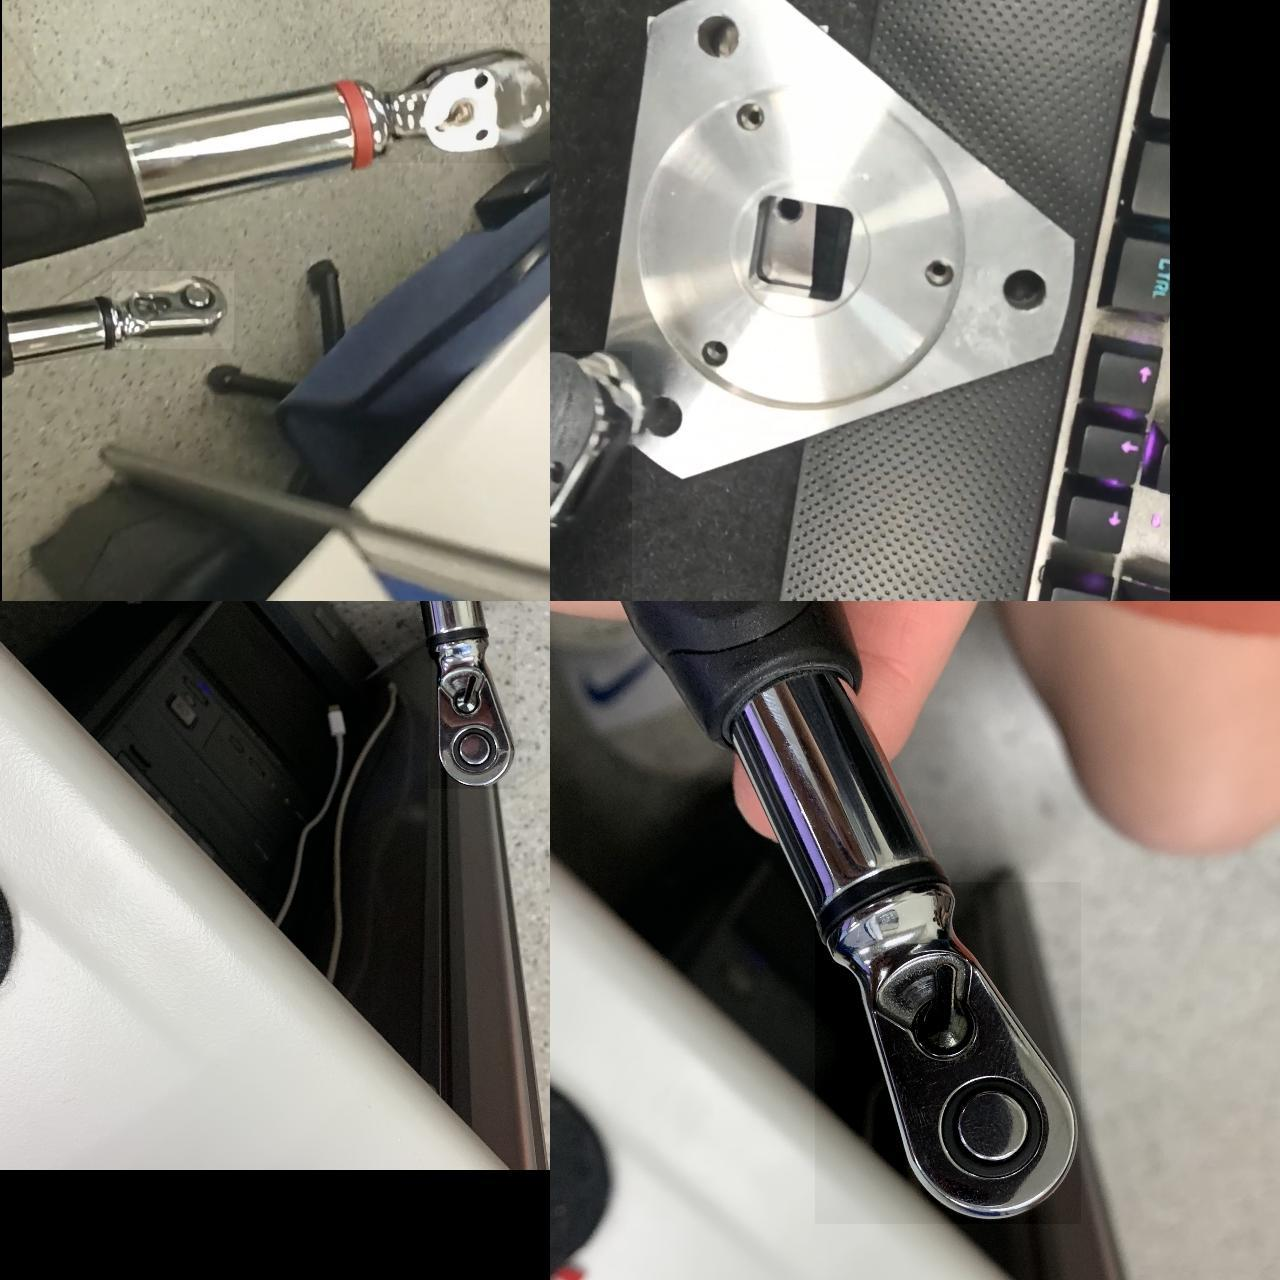Tool: (815, 881, 1081, 1223), (378, 42, 550, 162), (550, 350, 632, 601), (430, 636, 516, 788), (112, 270, 234, 348)
